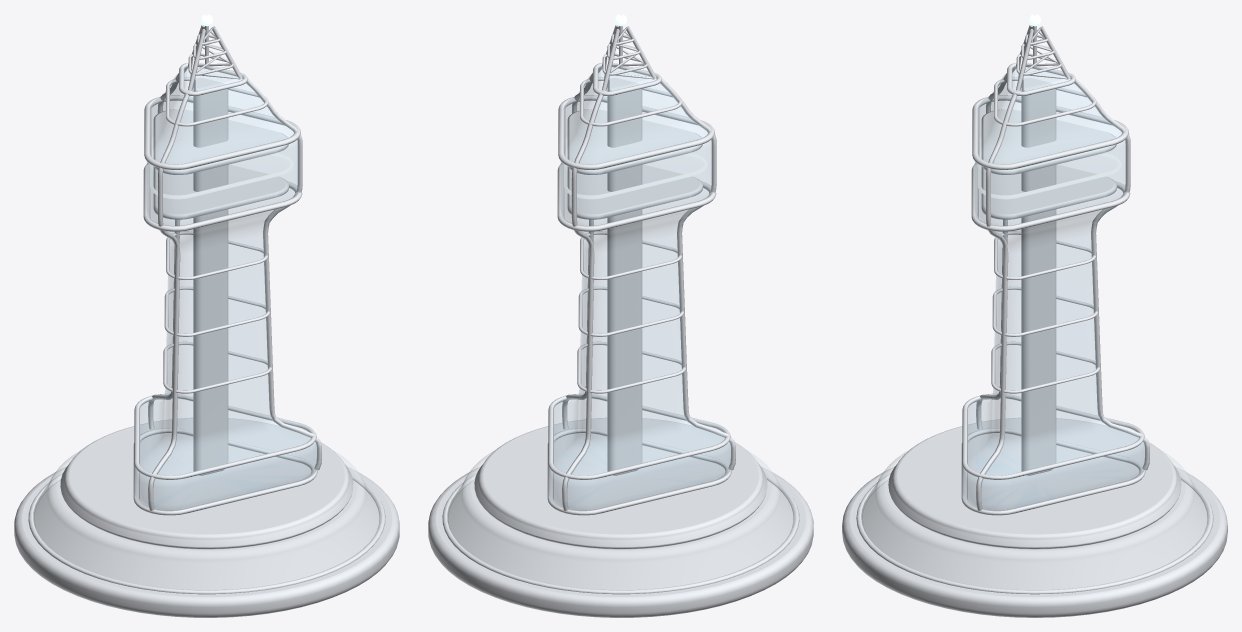
3 renders of one model, left to right at view 1: azimuth 30°, elevation 25°; view 2: azimuth 150°, elevation 25°; view 3: azimuth 270°, elevation 25°, orthographic.
Visible parts, largest first — view 1: FukuokaTower_ChessPiece; view 2: FukuokaTower_ChessPiece; view 3: FukuokaTower_ChessPiece.
Part boxes in pixels (x1,y1,x2,y2): FukuokaTower_ChessPiece: (14,14,399,617); FukuokaTower_ChessPiece: (428,14,813,617); FukuokaTower_ChessPiece: (842,14,1227,617).
Bounding box in the file's own units: 2 × 3 × 2.
